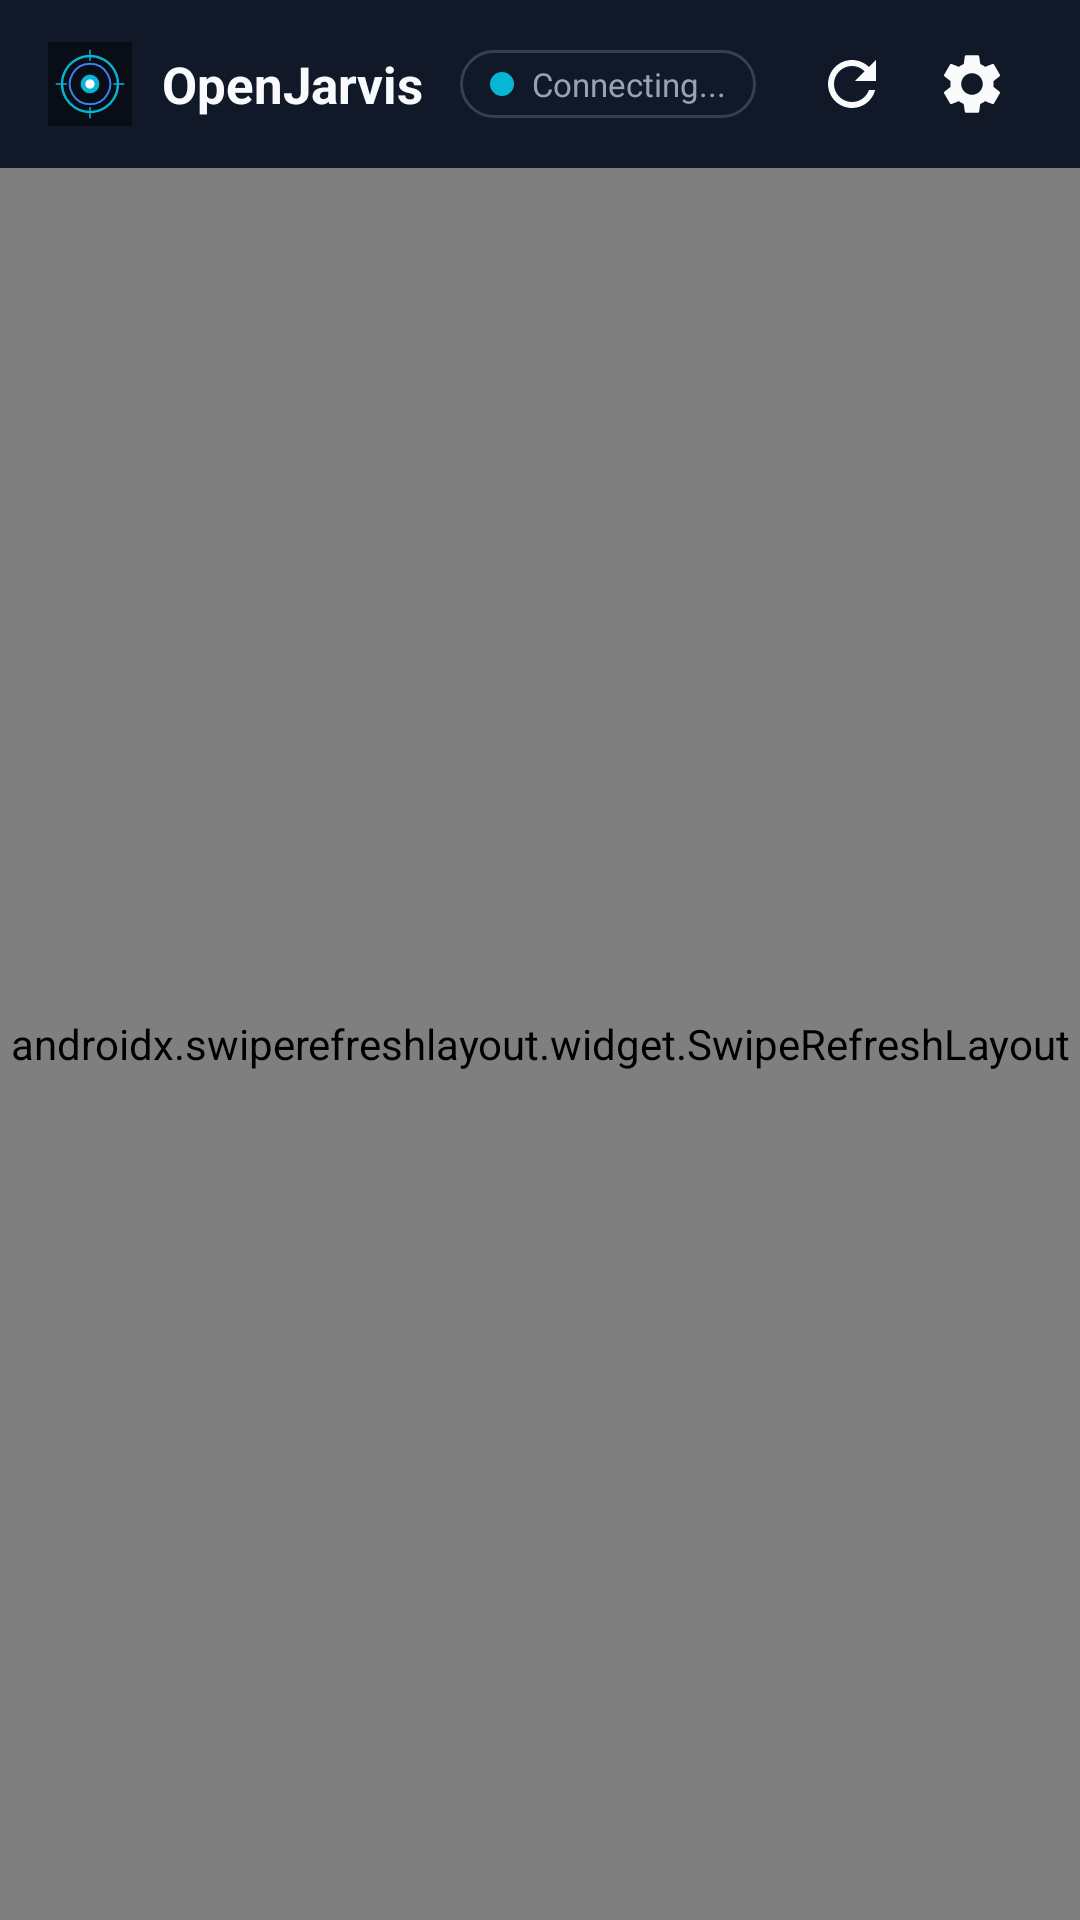

Icon click points for this 1080x1920 phone screenshot, format (x=x, y=y):
Settings: (x=972, y=84)
